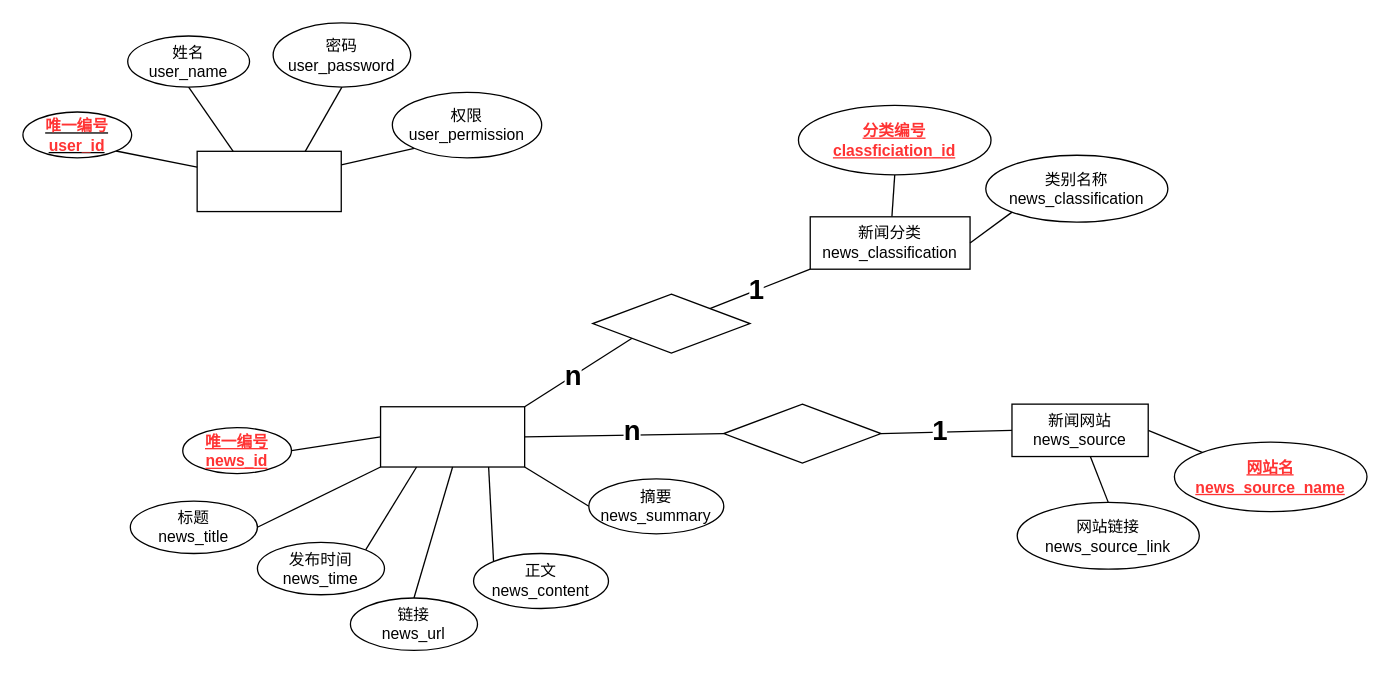
Image size: 1390x673. Some labels were removed from this diagram. Here are the shapes that lost their labels. From the top down, the centre of each, then its label:
At (x=268, y=181): "用户和管理员 user_info".
At (x=670, y=323): "隶属".
At (x=452, y=436): "新闻文章 news_bs4".
At (x=801, y=433): "来源".
